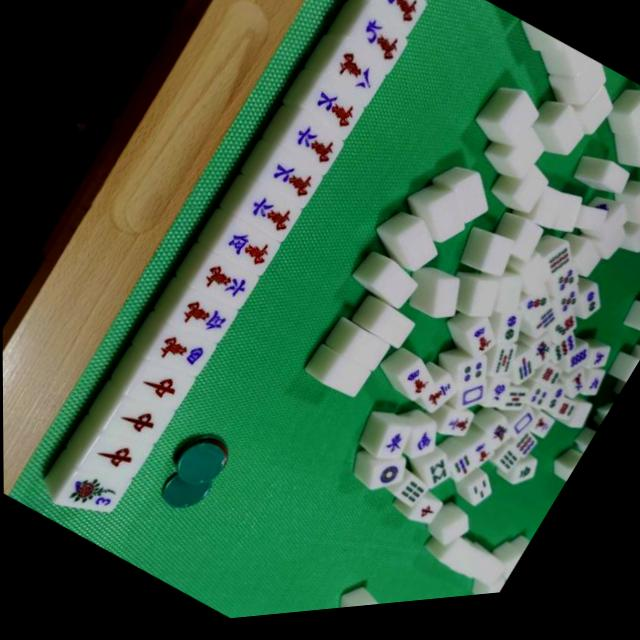bf3: (65, 466, 121, 520)
hdr: (87, 430, 144, 484), (110, 399, 164, 452), (132, 364, 184, 415)
sc4: (150, 325, 211, 384)
sc5: (217, 222, 278, 281), (174, 291, 235, 350)
sc6: (283, 119, 345, 179), (240, 189, 300, 246), (199, 258, 256, 315)
sc7: (259, 152, 322, 216), (302, 85, 363, 145)
sc8: (323, 49, 387, 113)
sc9: (350, 14, 412, 75), (371, 0, 432, 39)
